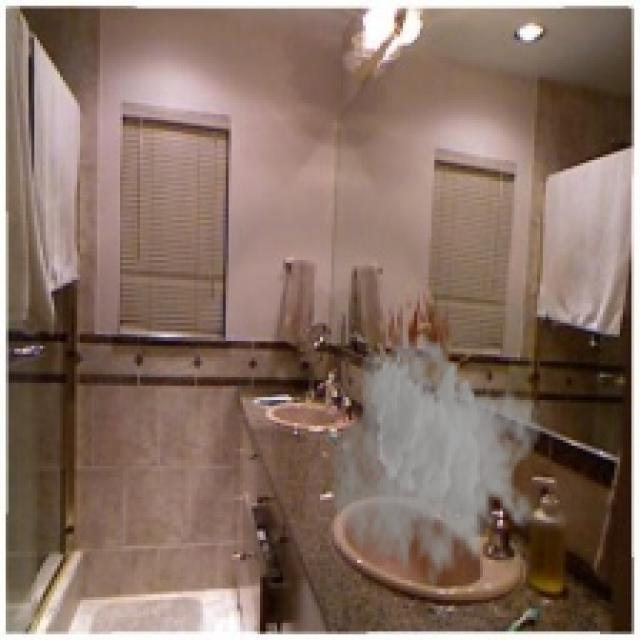Smoke: (328, 323, 543, 600)
